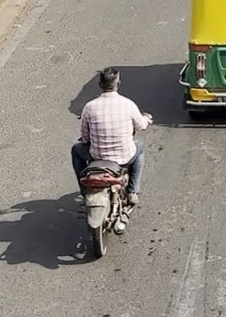BikeWithRider: (66, 64, 159, 263)
NoHelmet: (92, 64, 128, 96)
